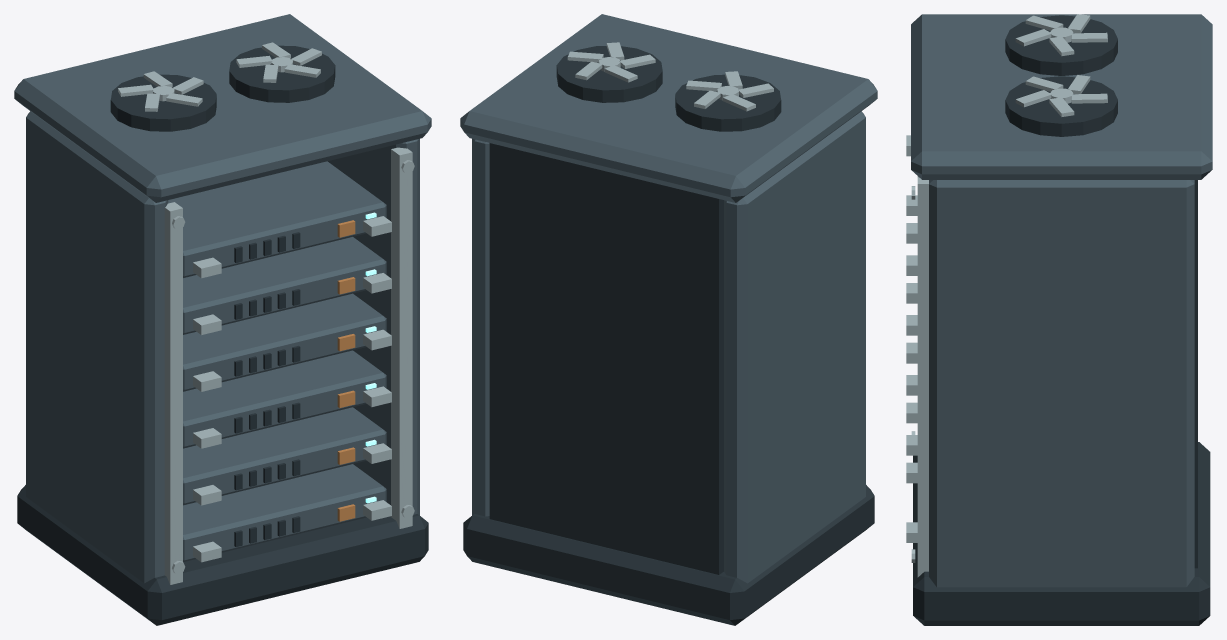
Rendered from rack-cooled.glb.
The picture shows the model from 3 angles, left to right: view 1: azimuth 30°, elevation 25°; view 2: azimuth 150°, elevation 25°; view 3: azimuth 270°, elevation 25°; orthographic projection. The views are drawn at different scales.
Visible parts, largest first — view 1: rack_chassis, compute_modules; view 2: rack_chassis, compute_modules; view 3: rack_chassis, compute_modules.
Boxes of the visible parts, x1,y1,x2,y2 form: rack_chassis: (14, 14, 431, 625); compute_modules: (110, 42, 391, 562); rack_chassis: (460, 14, 877, 625); compute_modules: (556, 42, 781, 131); rack_chassis: (911, 14, 1212, 625); compute_modules: (906, 14, 1117, 542).
Bounding box in the file's own units: 0.77 × 1.21 × 0.68.
